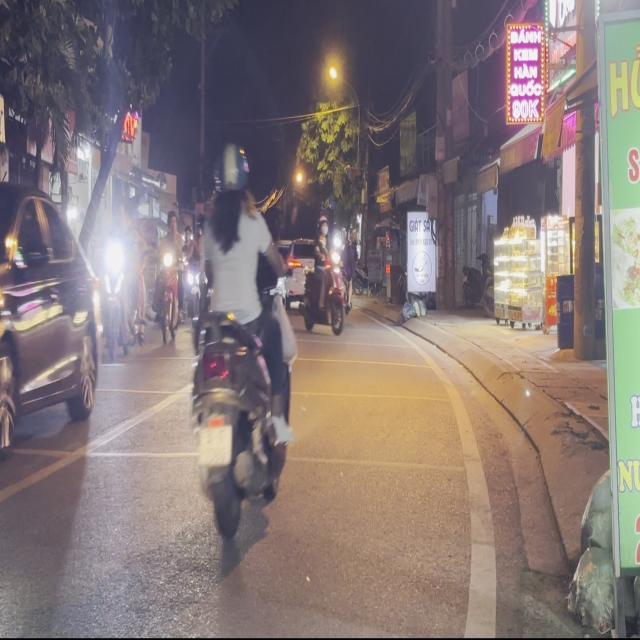helmet: (216, 142, 249, 204)
licenseplate: (184, 137, 300, 608)
nohelmet: (196, 425, 232, 465)
